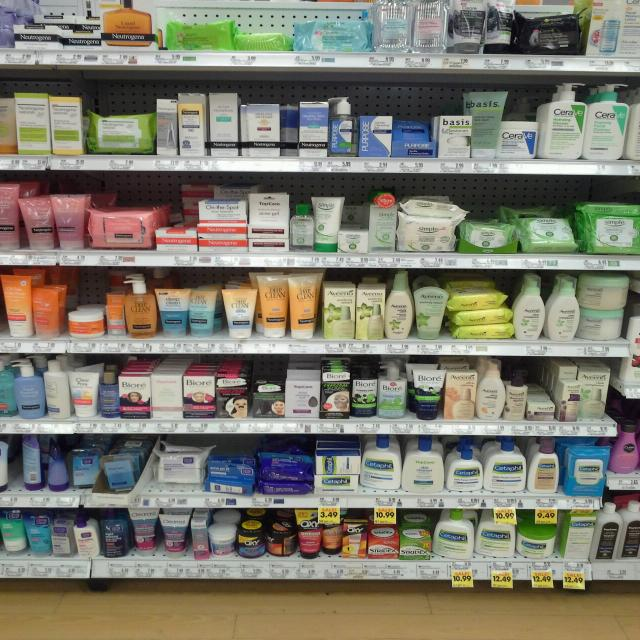unorganised: (17, 437, 101, 492), (431, 510, 517, 559), (444, 284, 515, 339), (86, 109, 156, 156), (460, 88, 505, 160), (206, 466, 314, 496), (127, 507, 189, 556), (516, 12, 581, 55), (360, 434, 401, 492), (516, 216, 576, 252), (17, 195, 53, 249), (287, 275, 317, 339), (41, 361, 72, 418), (460, 221, 516, 252), (312, 195, 342, 252), (146, 465, 203, 495), (398, 200, 469, 224), (482, 1, 514, 53), (516, 521, 557, 560), (31, 288, 61, 339), (100, 455, 137, 493), (187, 288, 216, 336), (265, 520, 298, 558), (71, 516, 100, 559), (321, 509, 344, 557), (1, 91, 15, 155), (209, 524, 235, 557)
